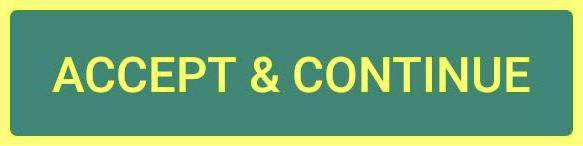Button: (1, 1, 582, 145)
